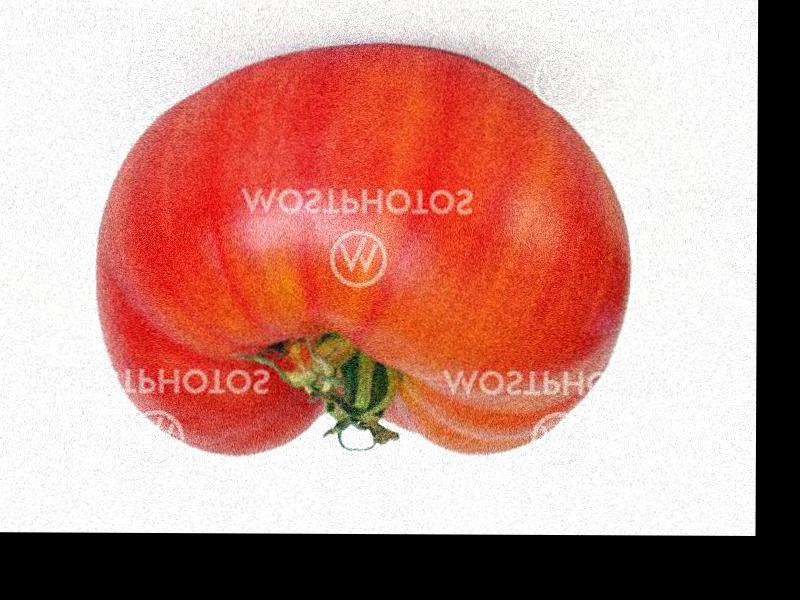Tomato: (97, 44, 631, 458)
